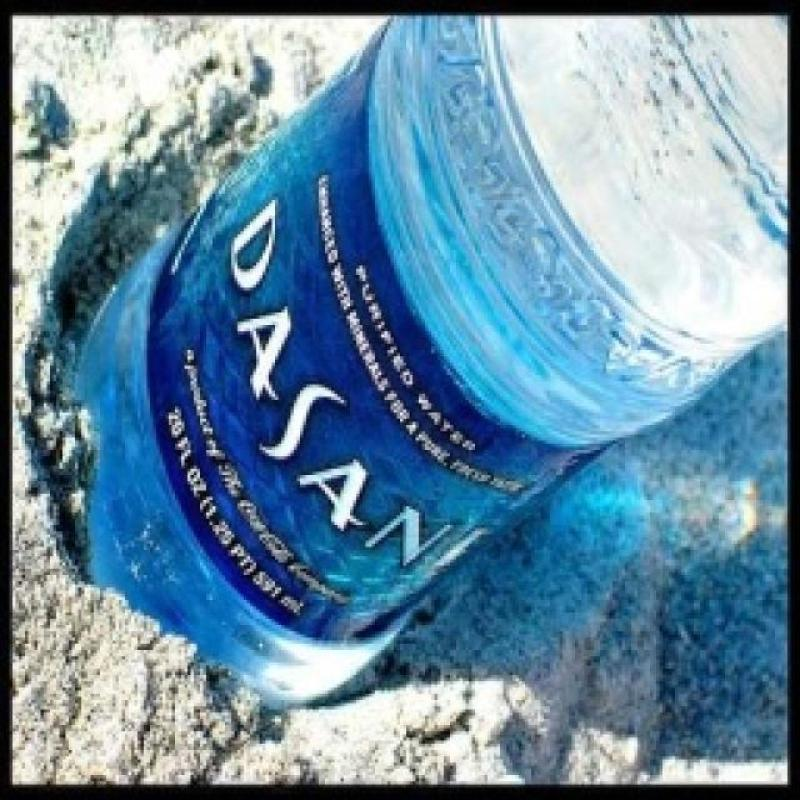botella: (65, 0, 800, 712)
